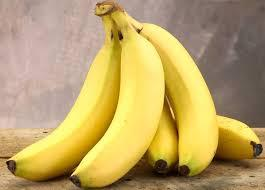banana: (7, 0, 262, 189)
